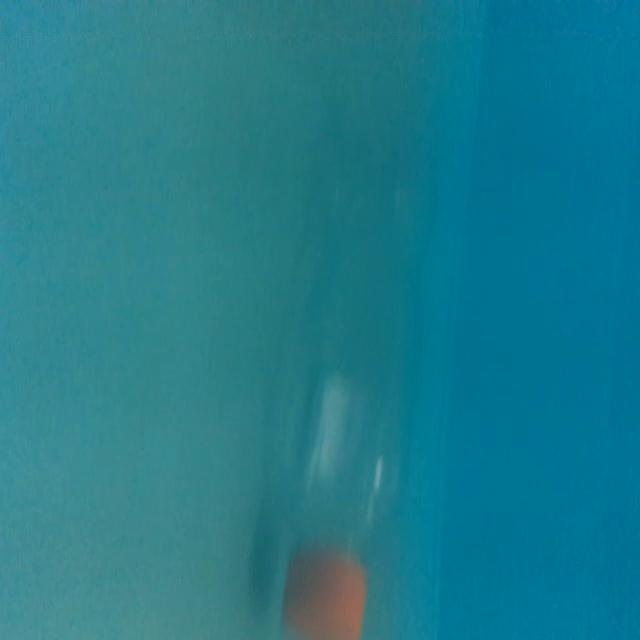plastic bottle: (273, 83, 448, 639)
